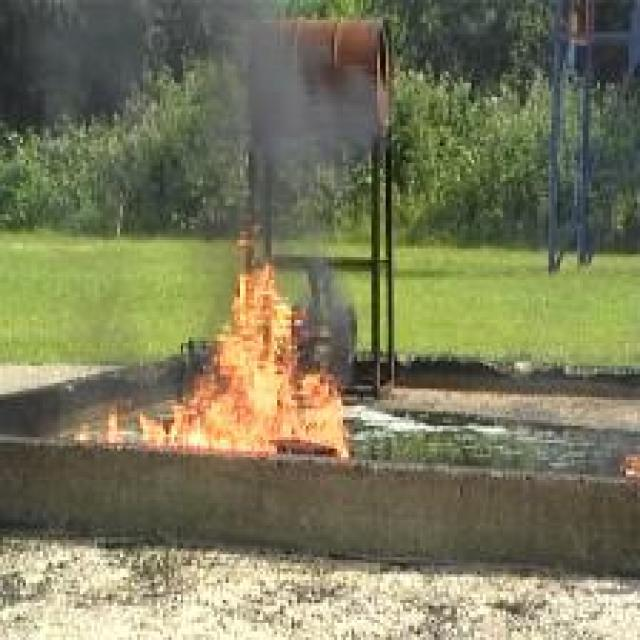Fire: (108, 266, 352, 460)
